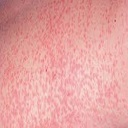Measles: (10, 31, 121, 116)
